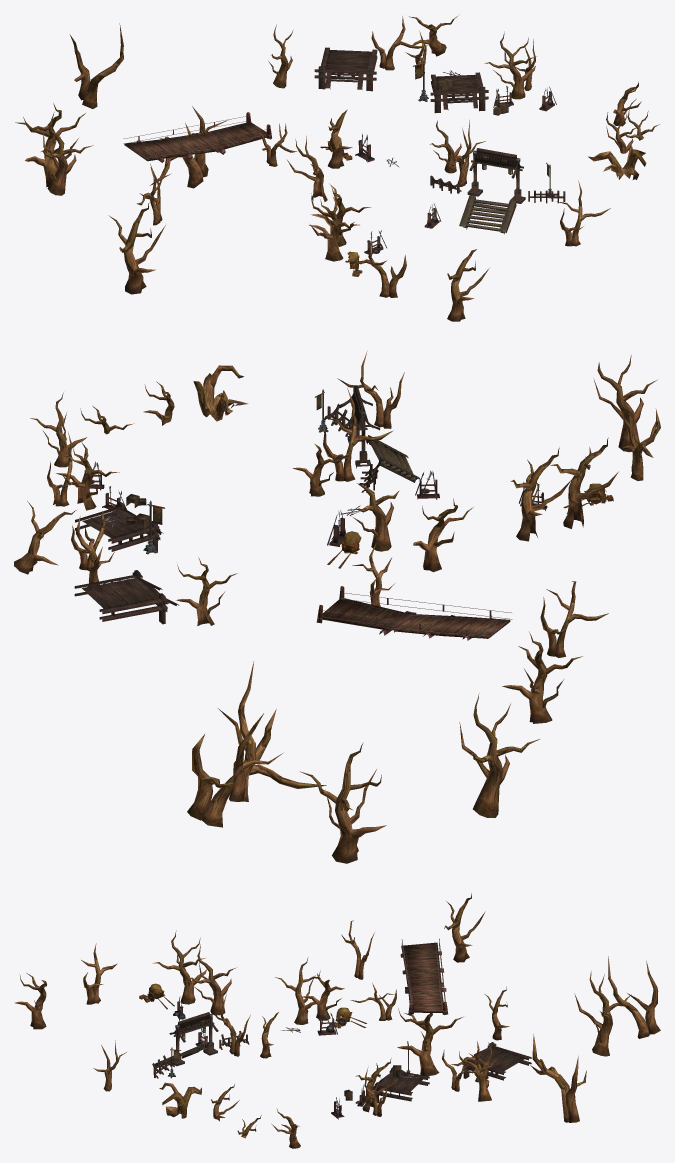
The model's file is forest_02_wood_01.FBX.
The picture shows the model from 3 angles, top to bottom: view 1: azimuth 30°, elevation 25°; view 2: azimuth 150°, elevation 25°; view 3: azimuth 270°, elevation 25°; orthographic projection. The views are drawn at different scales.
Parts seen in each view (by area): view 1: forest_02_wood_01; view 2: forest_02_wood_01; view 3: forest_02_wood_01.
Part boxes in pixels (box(x1,y1,x2,y2)): forest_02_wood_01: box(15, 14, 659, 321); forest_02_wood_01: box(14, 351, 660, 863); forest_02_wood_01: box(15, 893, 660, 1148).
Size of the model in its own units: 115 by 42.58 by 138.
Materials: 1 (1 with a texture image).
